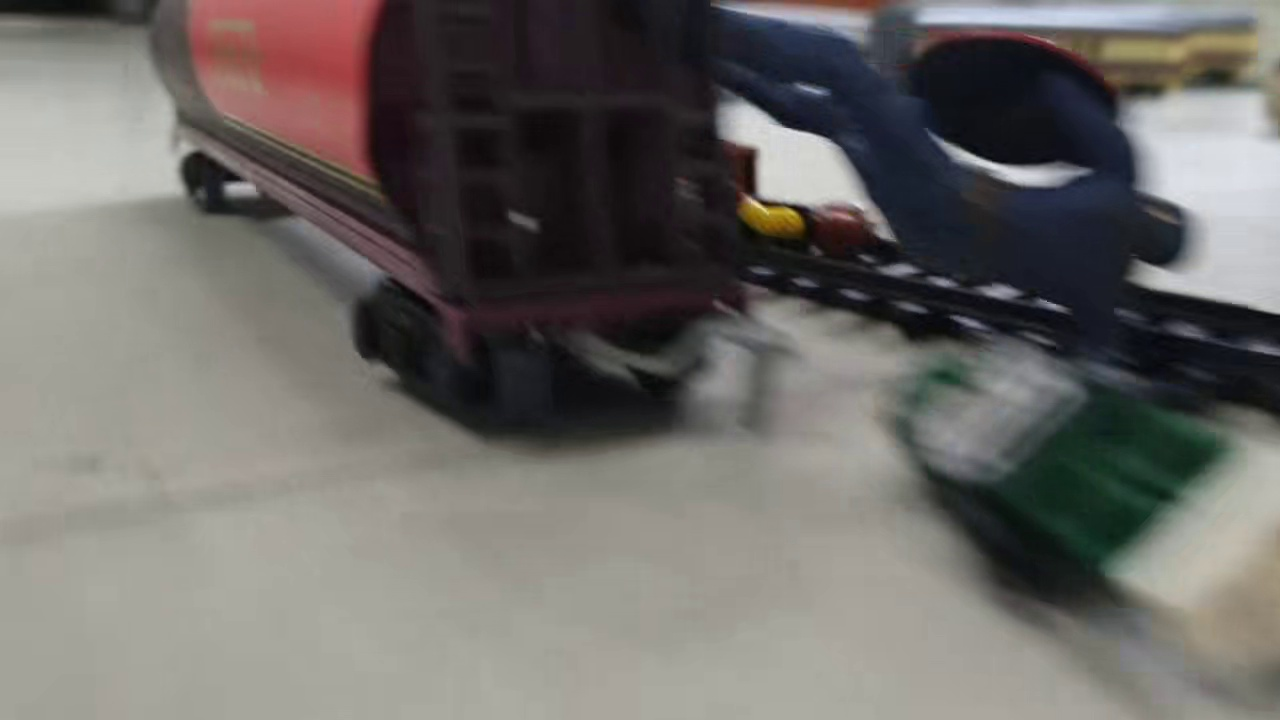people: (695, 1, 1194, 348), (872, 337, 1280, 668), (694, 131, 880, 263)
